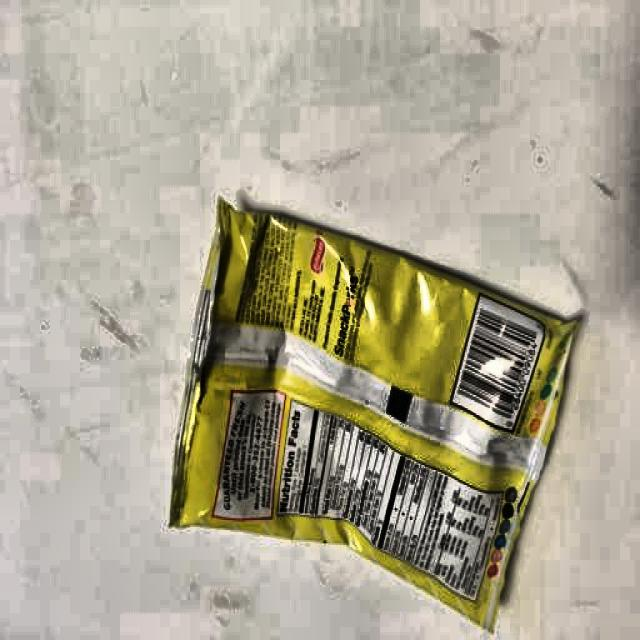trash: (170, 190, 572, 620)
